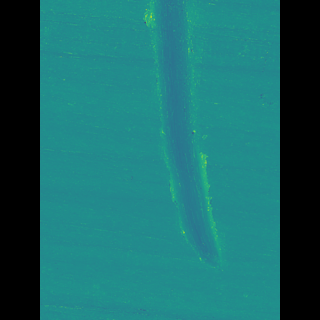Loch: (146, 0, 210, 275)
